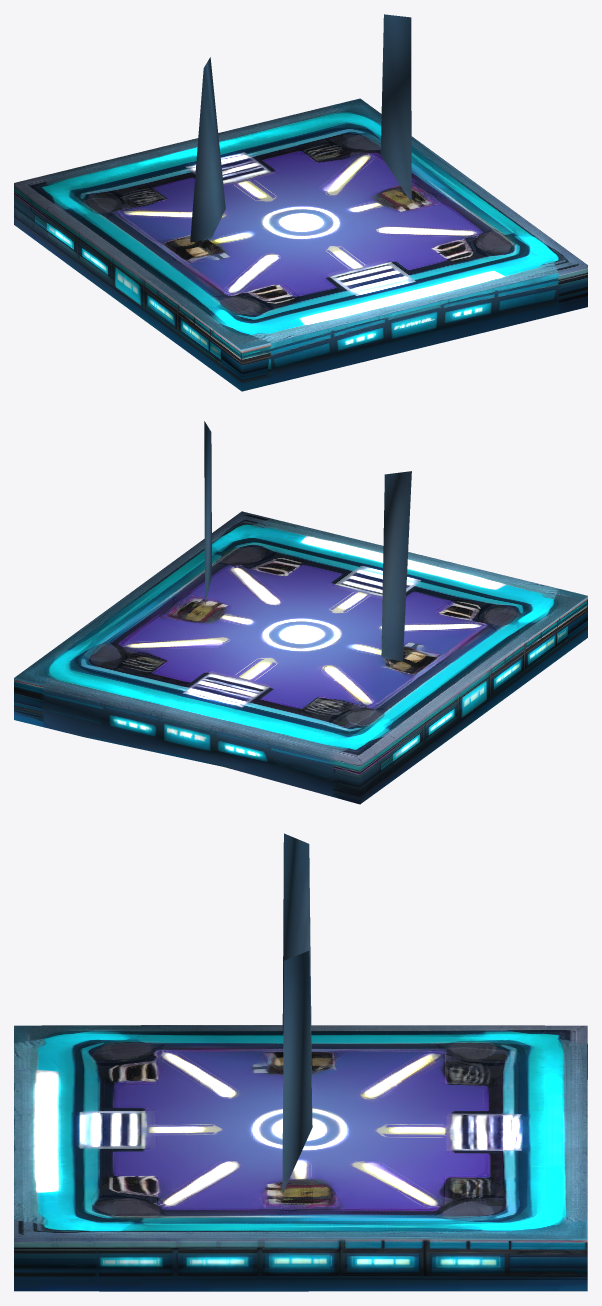
Rendered from ramp_split_fork.glb.
The picture shows the model from 3 angles, top to bottom: view 1: azimuth 30°, elevation 25°; view 2: azimuth 150°, elevation 25°; view 3: azimuth 270°, elevation 25°; orthographic projection. The views are drawn at different scales.
Bounding box in the file's own units: 1.76 × 1.14 × 2.
1 material, 1 textured.
